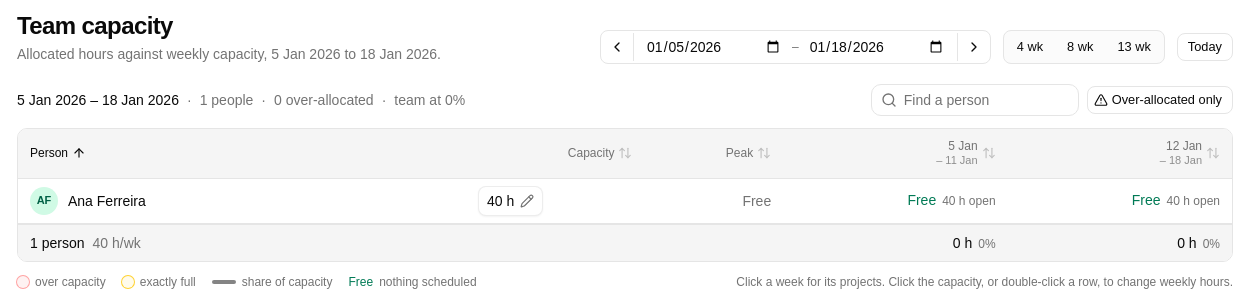
Test: App › steps back and forward a week at a time, keeping the range length
The image size is (1250, 306).
expect the text "5 Jan" is shown: met, box [948,139,978,154]
Click the button named "Next week" at x=974, y=47, box [958,31,990,63]
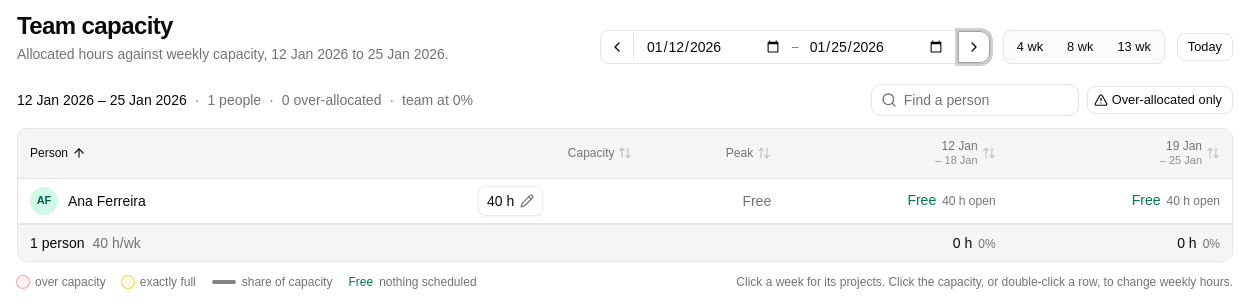
expect the text "19 Jan" is shown: met, box [1166,139,1202,154]
Click the button named "Previous week" at x=617, y=47, box [601,31,633,63]
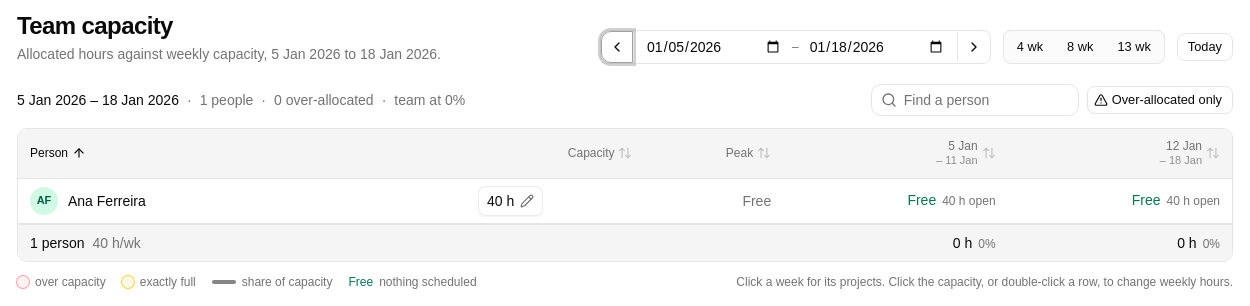
Click the button named "Previous week" at x=617, y=47, box [601,31,633,63]
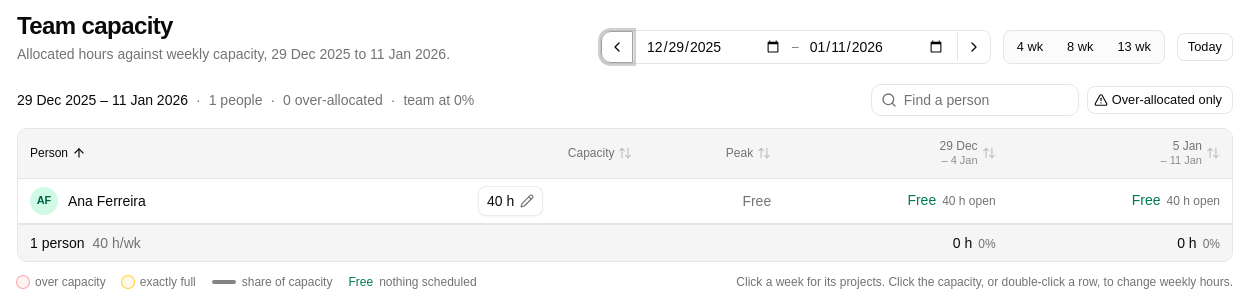
expect the text "29 Dec" is shown: met, box [940,139,978,154]
